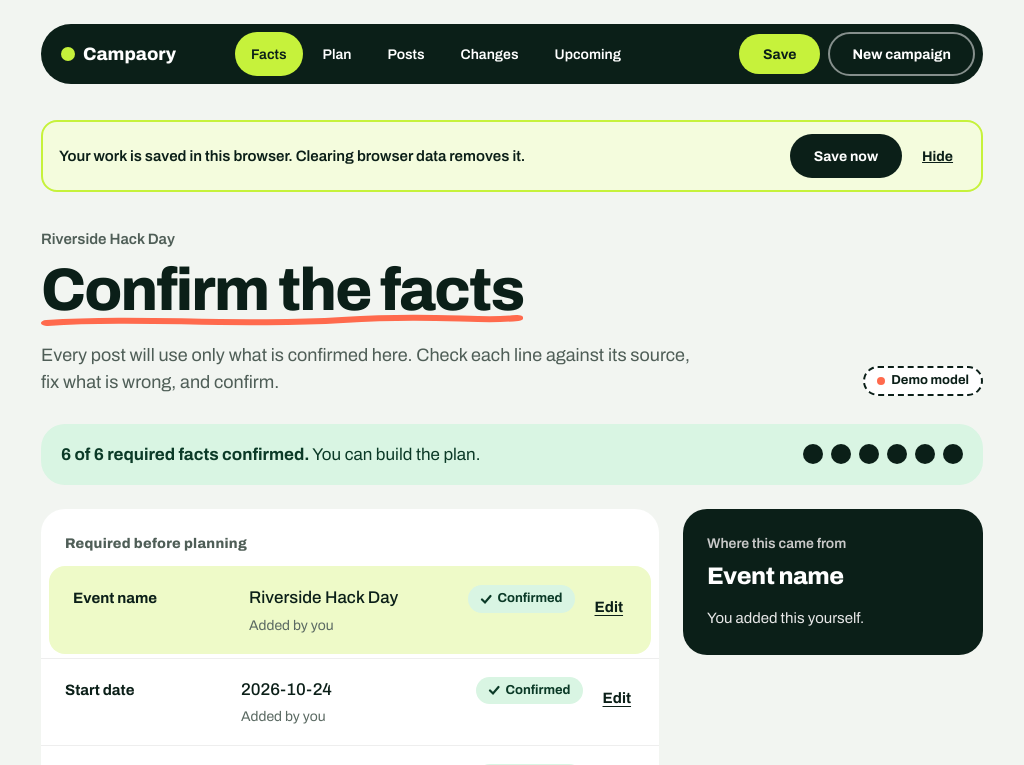
sign-in and save (LLD 8.4) › without sign-in configured, Save keeps the campaign in this browser
Expected: the text "Your work is saved in this browser. Clearing browser data removes it." is shown, [59,145,525,167]
Click the button "Save now" at (846, 156), box [790,134,902,178]
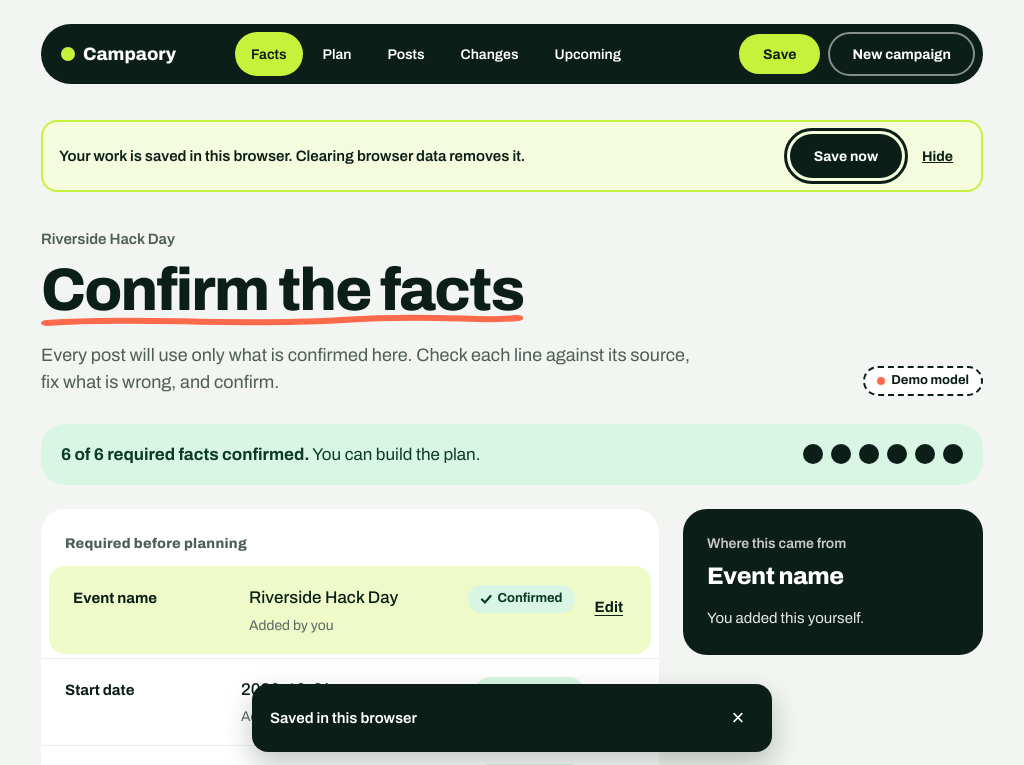
Result: the text "Saved in this browser" is shown at [270,710,417,726]
